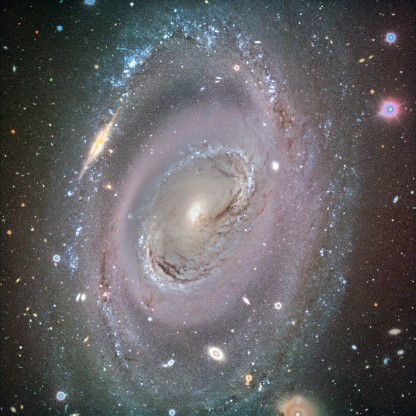Messier 96: (35, 4, 363, 416)
